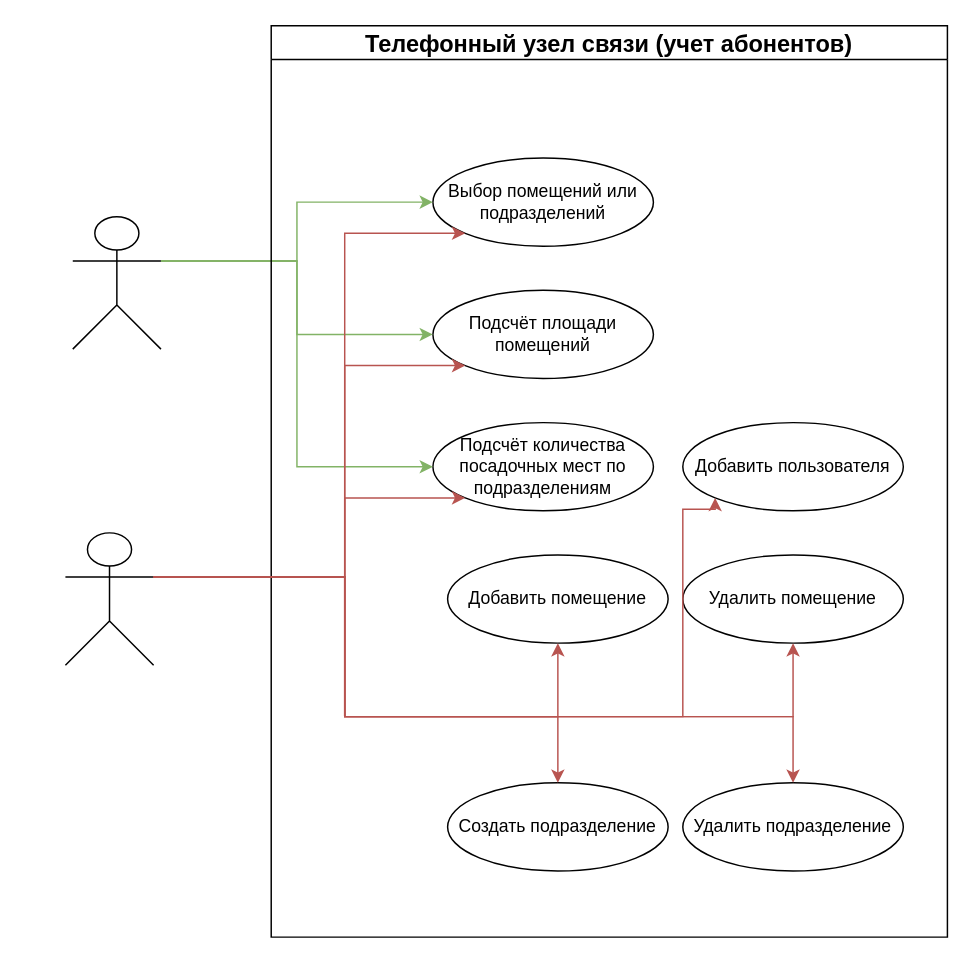
Some shapes in this 973 by 963 pixel diagram are drawn without their labels. The shapes that lost their labels are listed below. From the top down, each one's centre as x and y in pixels, then its label:
At point (116, 282): "Авторизованный пользователь".
At point (109, 598): "Администратор".
